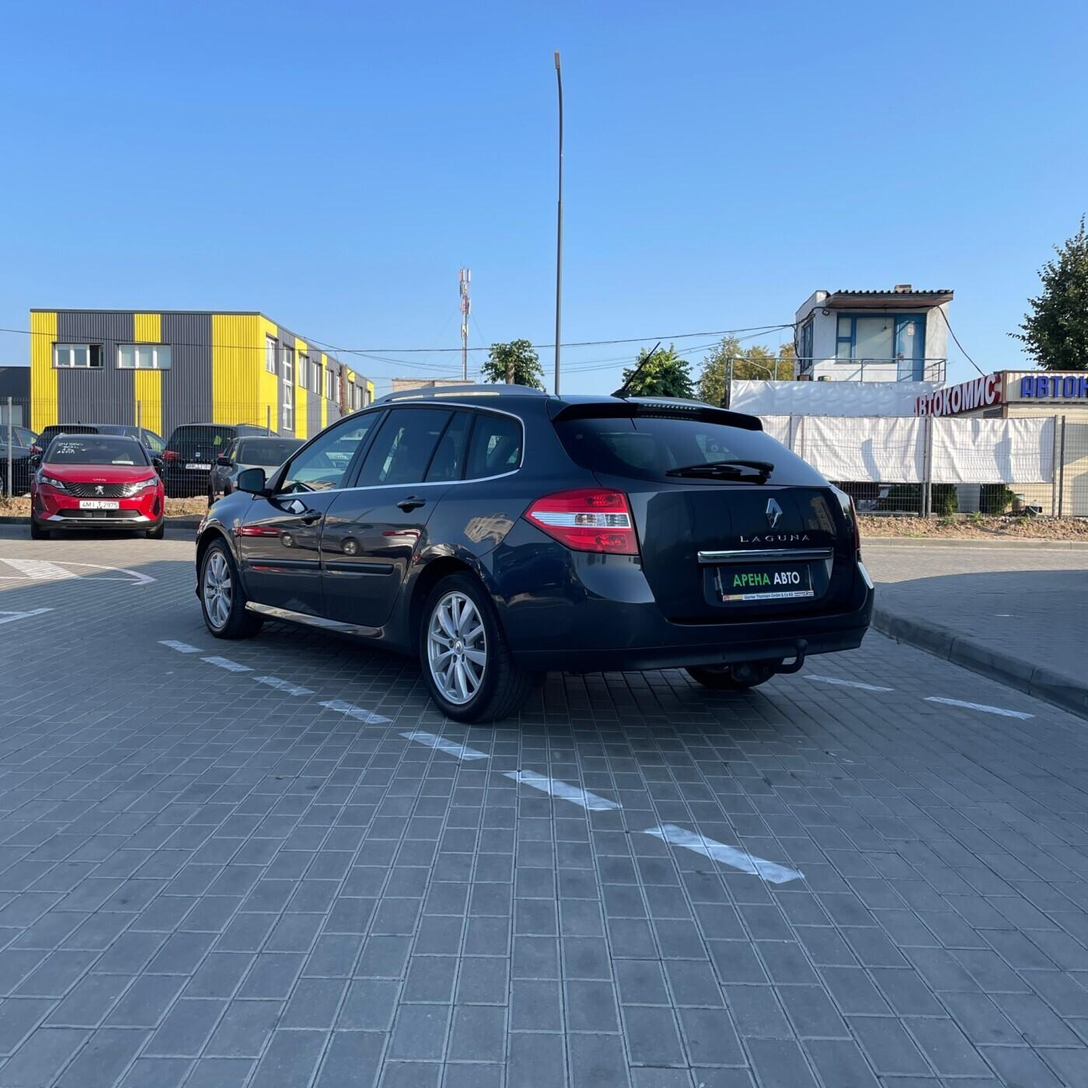Laguna_2010-2015: (191, 381, 892, 740)
